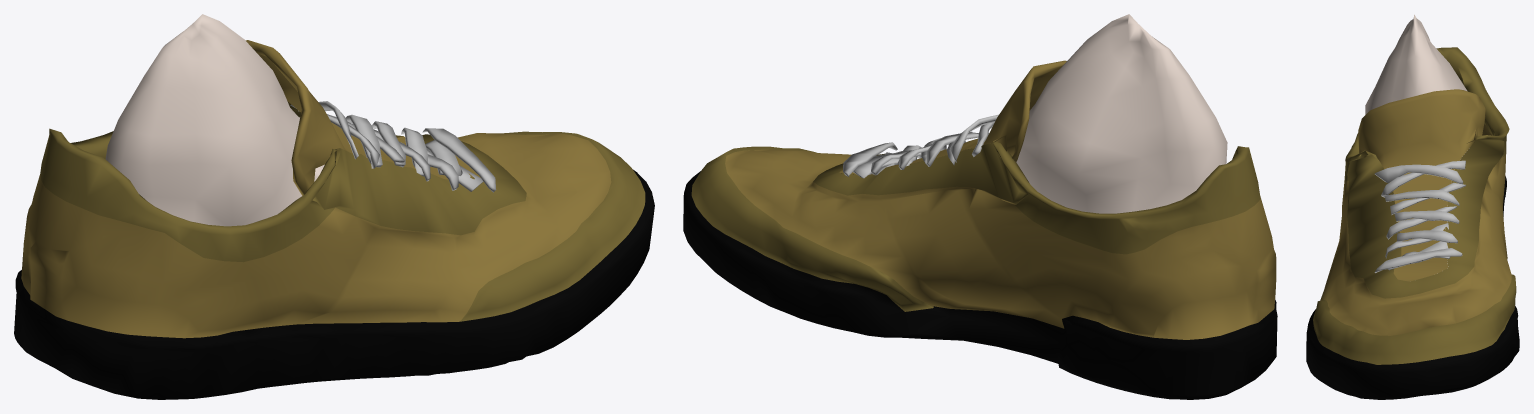
File: Foot.R.dae
3 renders of one model, left to right at view 1: azimuth 30°, elevation 25°; view 2: azimuth 150°, elevation 25°; view 3: azimuth 270°, elevation 25°, orthographic. The views are drawn at different scales.
Parts seen in each view (by area): view 1: Foot_R; view 2: Foot_R; view 3: Foot_R.
Boxes of the visible parts, x1,y1,x2,y2 form: Foot_R: [14, 14, 654, 399]; Foot_R: [683, 14, 1277, 399]; Foot_R: [1306, 14, 1519, 399].
Bounding box in the file's own units: 0.3236 × 0.1373 × 0.1876.
